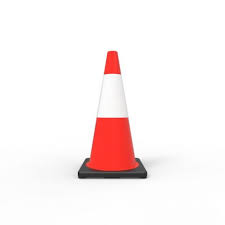cones: (77, 51, 149, 179)
